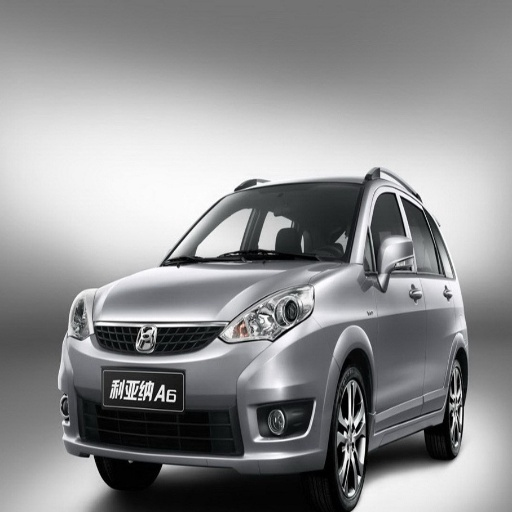front_bumper: (64, 306, 338, 469)
front_glass: (162, 183, 362, 265)
front_left_door: (365, 181, 425, 409)
